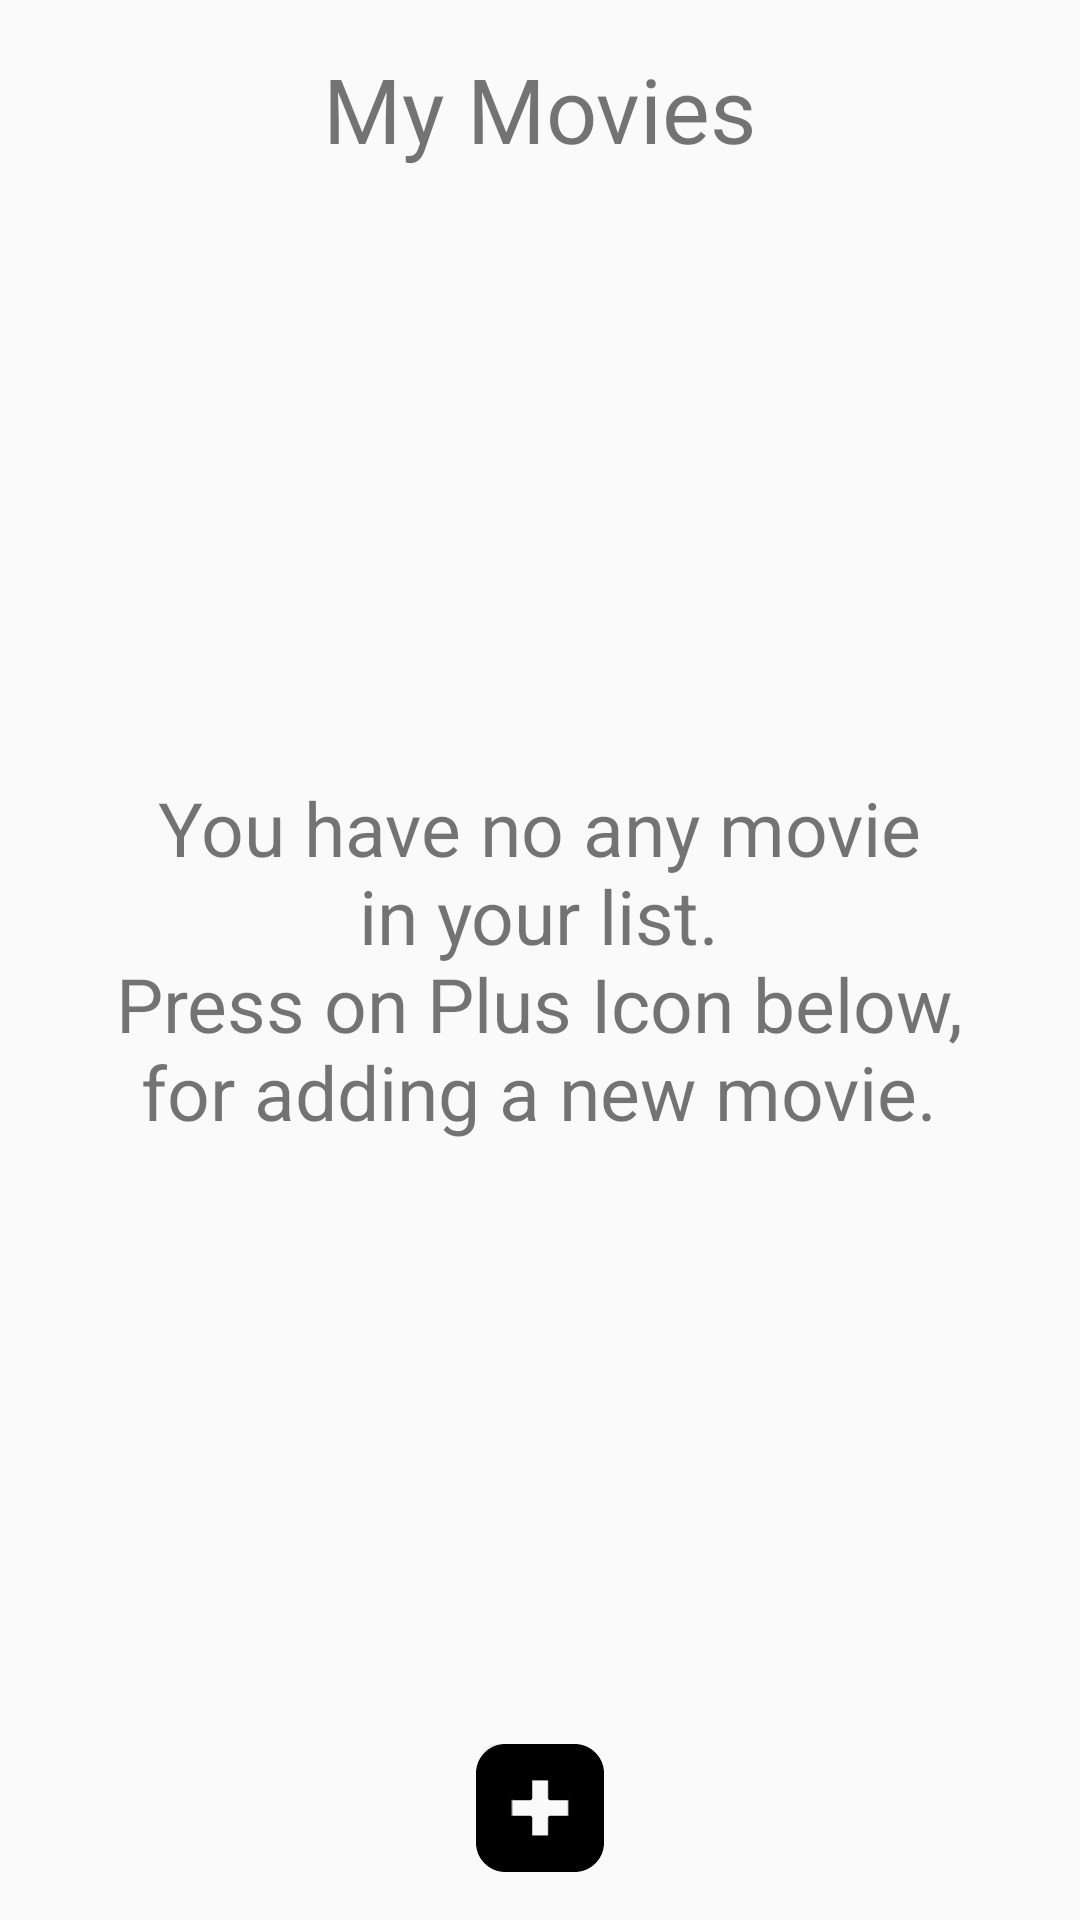

Locate icon controls on the screen. Image size 1080w x 1920h, boxes as Rect(x1, y1, x2, y2).
plus: Rect(476, 1744, 604, 1872)
